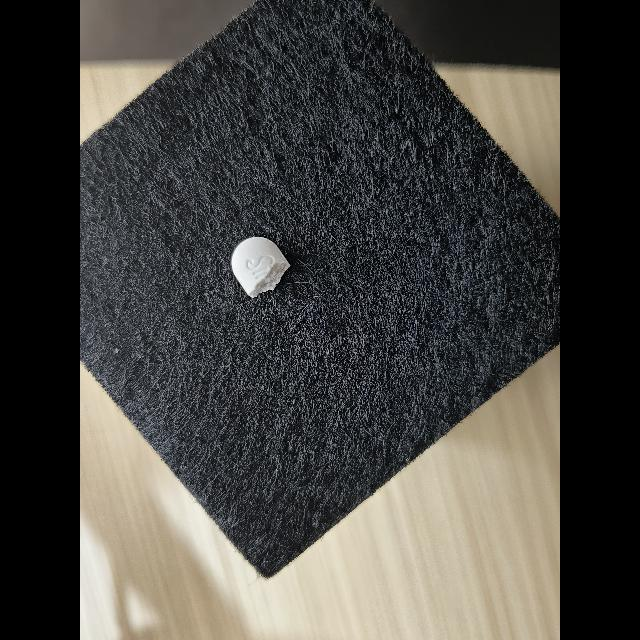Chipped Pill: (231, 237, 291, 298)
